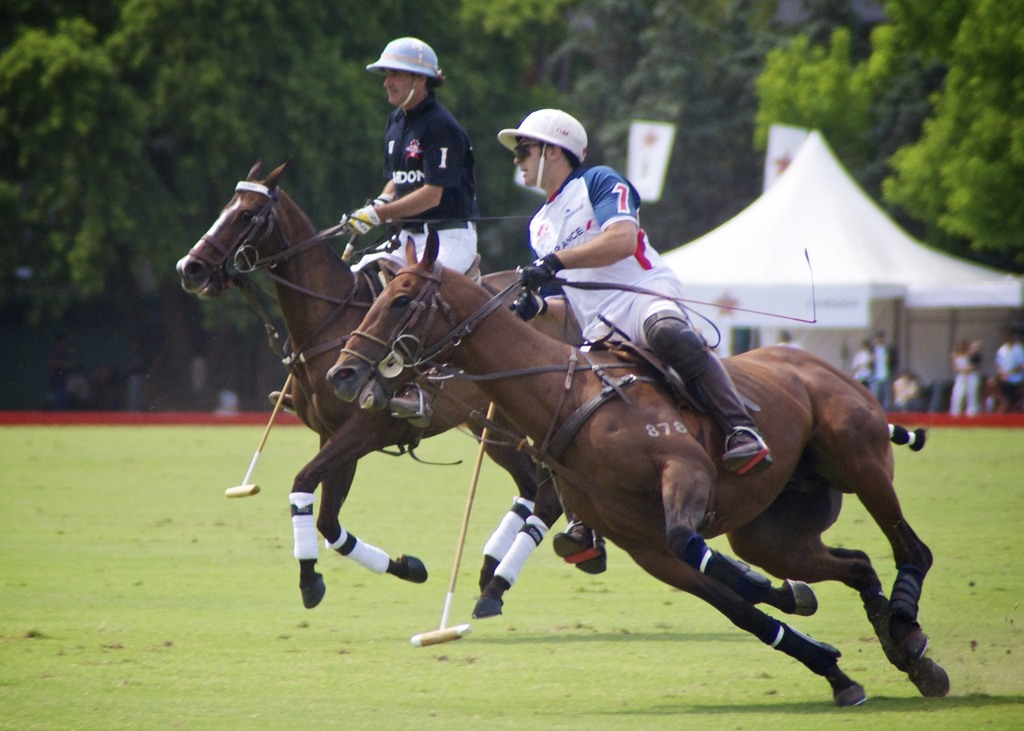horse: (325, 226, 949, 706), (176, 154, 583, 618)
